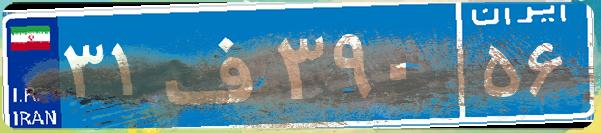0: (385, 28, 445, 110)
1: (110, 28, 158, 105)
3: (273, 28, 330, 110), (57, 26, 110, 107)
5: (475, 38, 525, 113)
6: (525, 38, 570, 115)
9: (330, 28, 385, 110)
ف: (158, 15, 273, 115)
